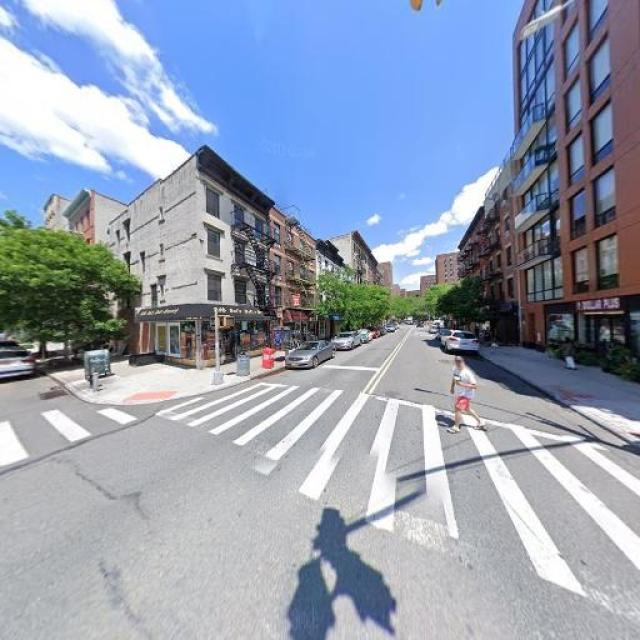Building: (122, 145, 274, 365), (522, 1, 585, 362), (593, 1, 640, 377)
